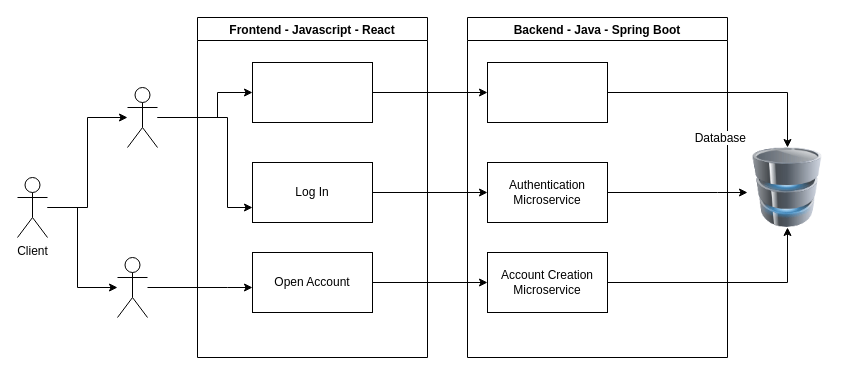
Image size: 845x375. Some labels were removed from this diagram. Here are the shapes that lost their labels. From the top down, the centre of each, then its label:
At point (312, 92): "Transaction".
At point (547, 92): "Transaction Microservice".
At point (142, 117): "Registered Client".
At point (132, 287): "New Client".
